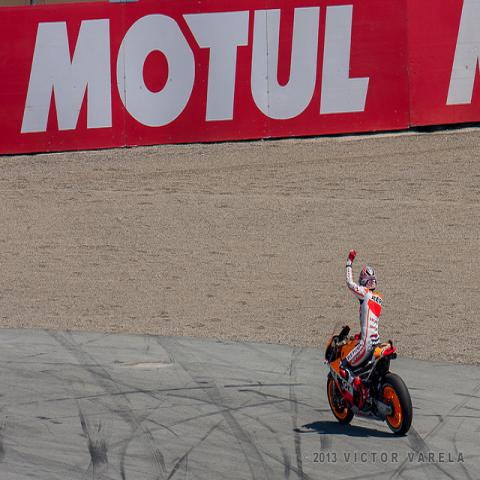motorcycle: (324, 324, 413, 436)
